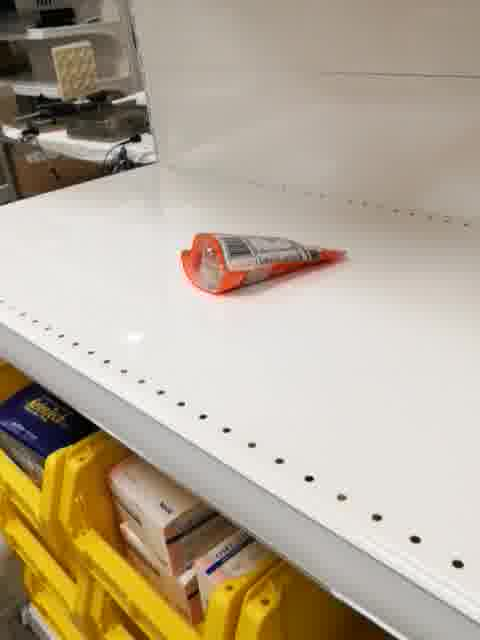whitechia: (178, 230, 346, 297)
